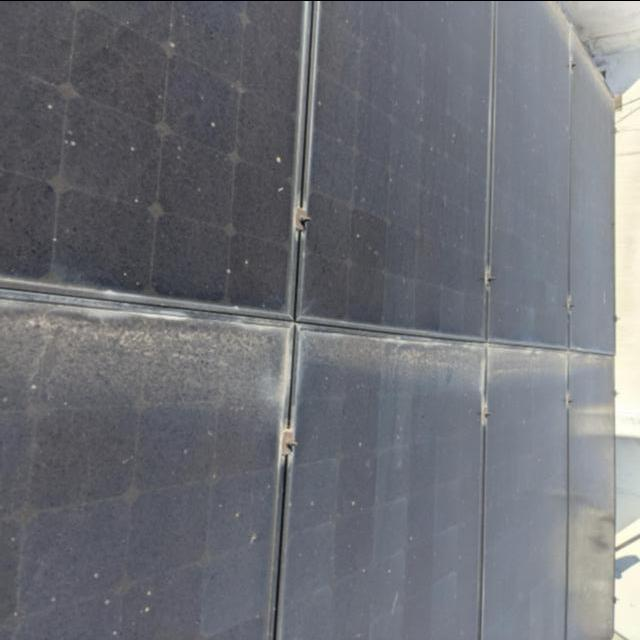soiled: (0, 17, 613, 640)
